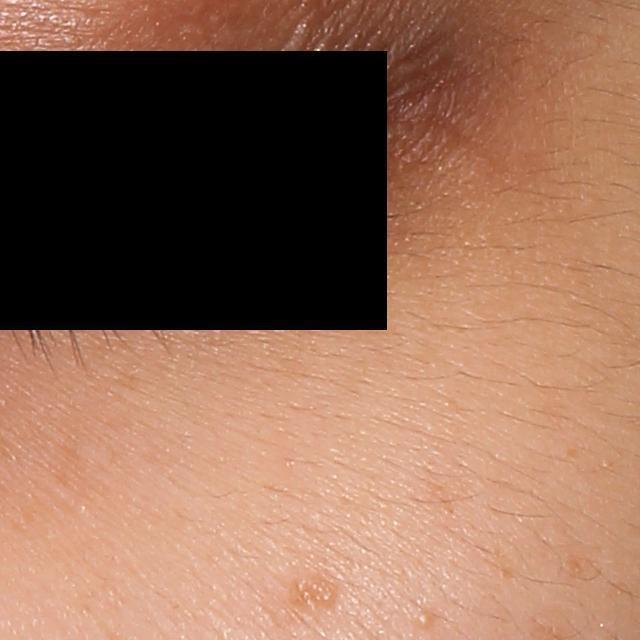comedo: (414, 608, 435, 628)
